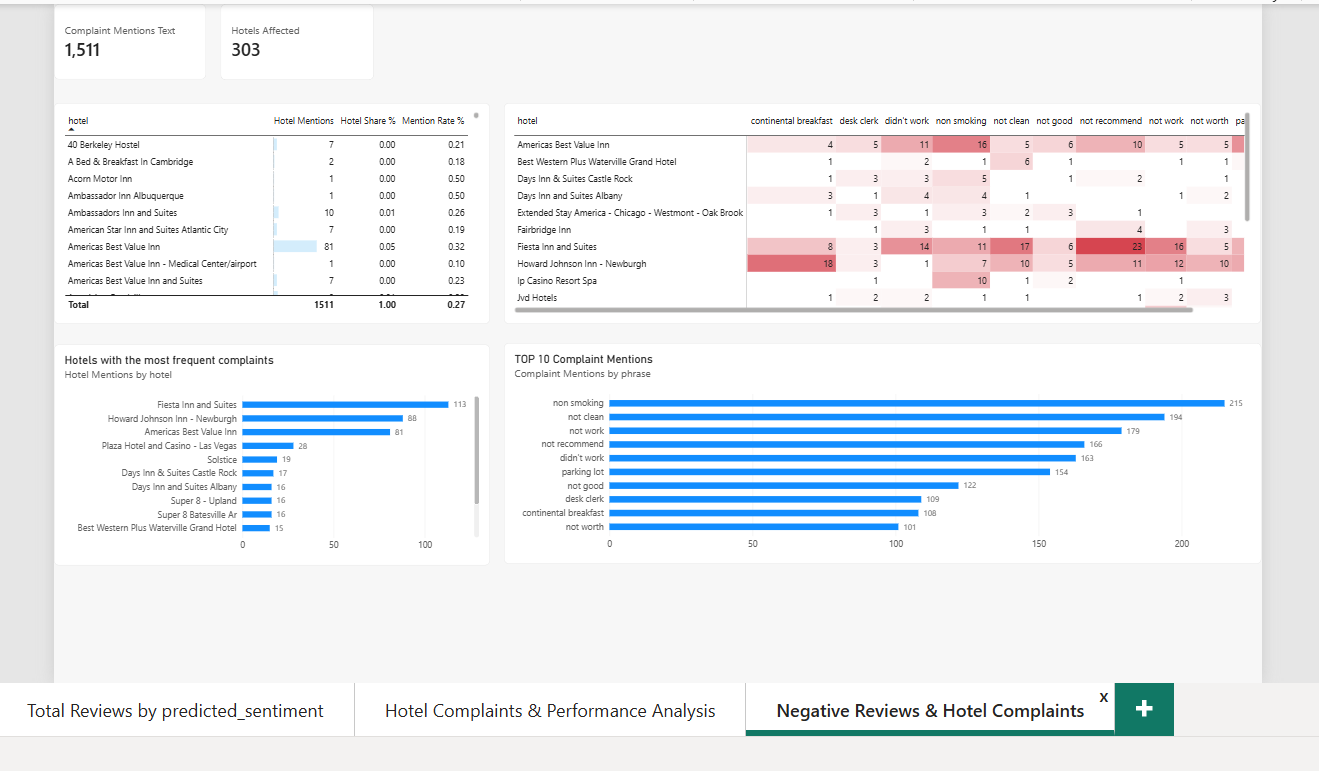

The page's visual inventory and layout, read from the dashboard file:
{"tool":"powerbi","page":{"name":"Negative Reviews & Hotel Complaints","canvas":[1920,1080],"ordinal":2},"visuals":[{"type":"clusteredBarChart","title":"TOP 10 Complaint Mentions","fields":{"Category":["fact_overall_negative_phrases_v2.phrase"],"Y":["Measures (2).Complaint Mentions"]},"box":[715.6,540,1204.4,351.1],"z":1},{"type":"clusteredBarChart","title":"Hotels with the most frequent complaints","fields":{"Category":["dim_hotels.hotel"],"Y":["Measures (2).Hotel Mentions"]},"box":[0,540.4,693.6,351.1],"z":3},{"type":"pivotTable","fields":{"Columns":["fact_overall_negative_phrases_v2.phrase"],"Rows":["dim_hotels.hotel"],"Values":["Measures (2).Hotel Mentions"]},"box":[715.6,157.8,1204.3,351.1],"z":4},{"type":"cardVisual","fields":{"Data":["Measures (2).Complaint Mentions Text"]},"box":[0,0,242.6,120.4],"z":5},{"type":"cardVisual","fields":{"Data":["Measures (2).Hotels Affected"]},"box":[263.8,0,244.7,121.3],"z":6},{"type":"tableEx","fields":{"Values":["dim_hotels.hotel","Measures (2).Hotel Mentions","Measures (2).Hotel Share %","Measures (2).Mention Rate %"]},"box":[0,157.8,693.3,351.1],"z":7}]}

Visuals, with their boxes on the page's 1920x1080 design canvas (x1, y1, x2, y2). These are canvas units, not pixel positions in the 1319x771 screenshot, which may show the page scaled, cropped or inside an application window:
"TOP 10 Complaint Mentions" clusteredBarChart: region(716, 540, 1920, 891)
"Hotels with the most frequent complaints" clusteredBarChart: region(0, 540, 694, 892)
pivotTable - fact_overall_negative_phrases_v2.phrase x dim_hotels.hotel: region(716, 158, 1920, 509)
cardVisual - Measures (2).Complaint Mentions Text: region(0, 0, 243, 120)
cardVisual - Measures (2).Hotels Affected: region(264, 0, 508, 121)
tableEx - dim_hotels.hotel x Measures (2).Hotel Mentions: region(0, 158, 693, 509)
